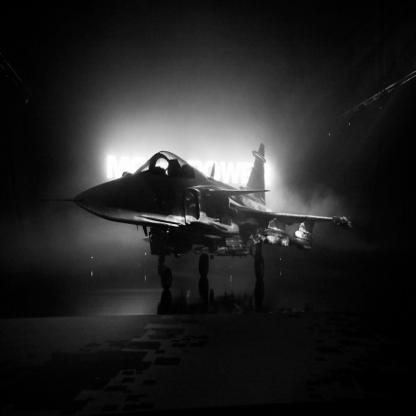JAS39: (41, 143, 354, 290)
